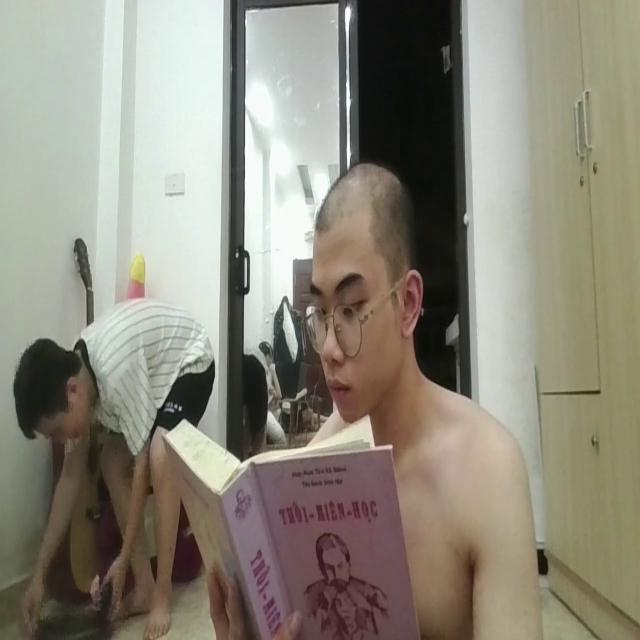book: (166, 410, 420, 640)
extra_person: (8, 298, 218, 640)
student: (294, 160, 542, 640)
